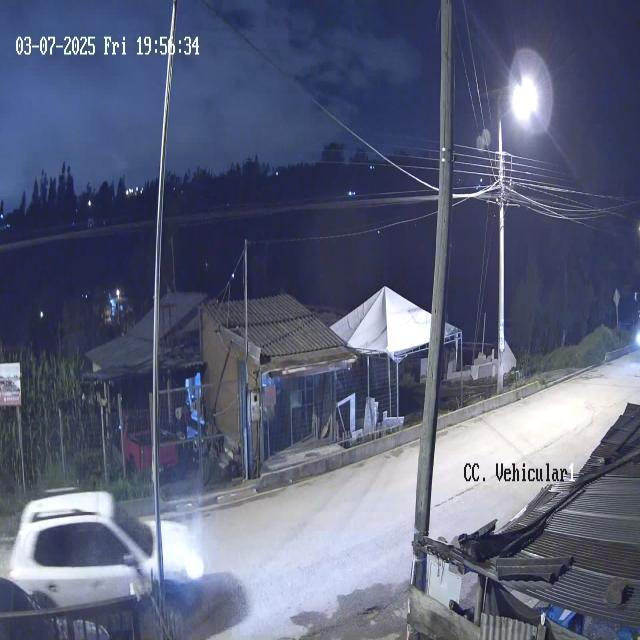SUV: (12, 486, 208, 628)
